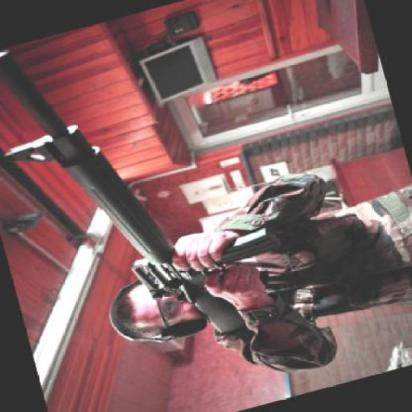Gun: (0, 0, 304, 397)
